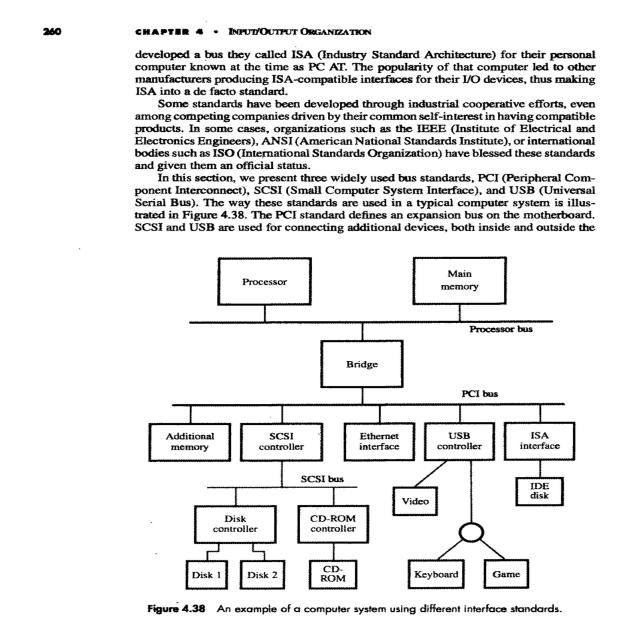diagram: (130, 252, 542, 640)
